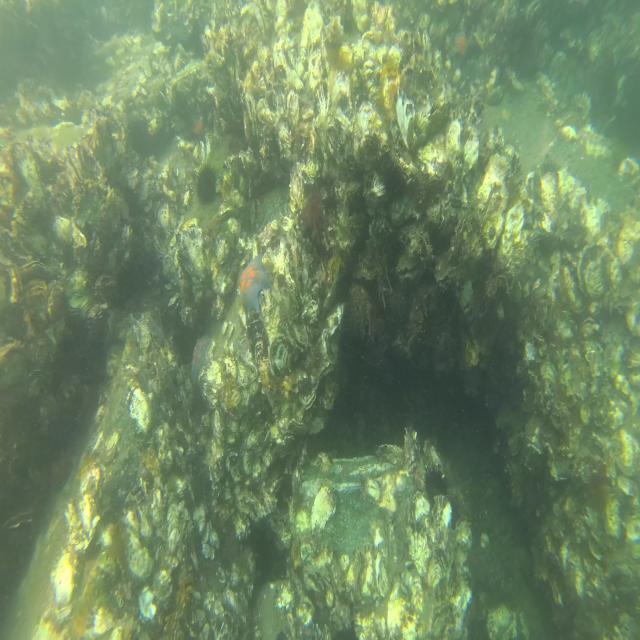echinus: (195, 164, 220, 208), (424, 463, 449, 506)
starfish: (238, 256, 272, 312), (192, 338, 212, 378), (454, 28, 470, 57), (192, 113, 204, 137)
